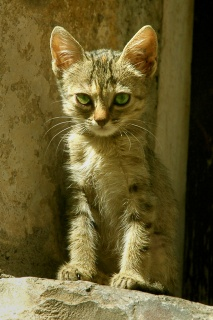Cat: (40, 21, 180, 292)
